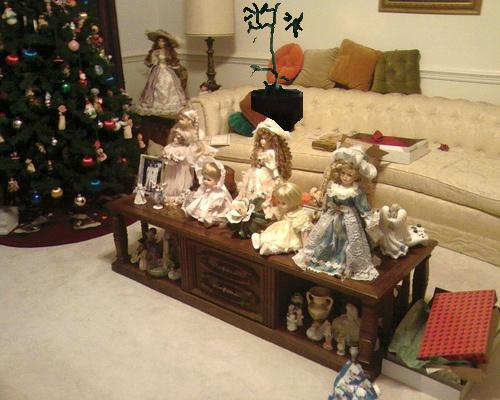tampered: (244, 4, 303, 131)
